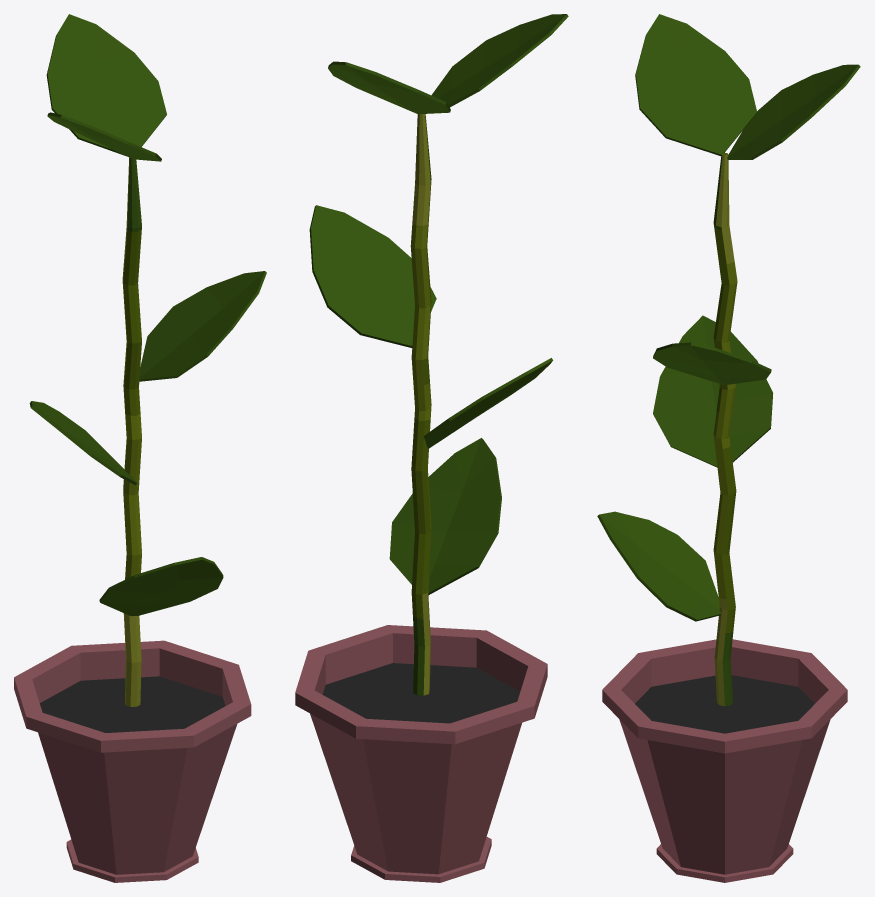
The model's file is Accesories_Plants_D.glb.
3 renders of one model, left to right at view 1: azimuth 30°, elevation 25°; view 2: azimuth 150°, elevation 25°; view 3: azimuth 270°, elevation 25°, orthographic. The views are drawn at different scales.
Visible parts, largest first — view 1: Accesories_Plants_D; view 2: Accesories_Plants_D; view 3: Accesories_Plants_D.
Boxes of the visible parts, left/top/right/bottom form: Accesories_Plants_D: left=14, top=14, right=266, bottom=882; Accesories_Plants_D: left=295, top=14, right=568, bottom=882; Accesories_Plants_D: left=597, top=14, right=860, bottom=882.
Bounding box in the file's own units: 0.6222 × 2.04 × 0.617.
Materials: 1 (1 with a texture image).
